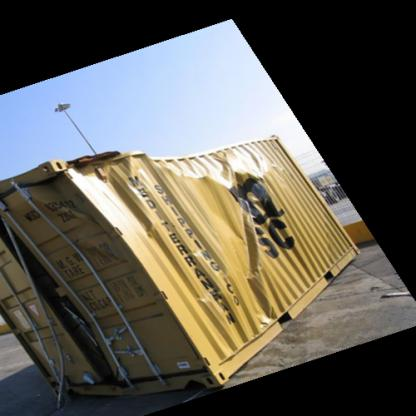Damage: (9, 202, 130, 392), (188, 154, 288, 306)
